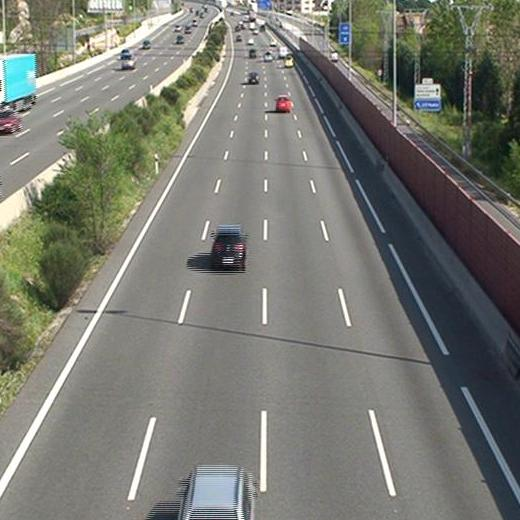car: (211, 227, 247, 268), (276, 96, 291, 111), (247, 71, 259, 84), (283, 58, 293, 67), (248, 49, 257, 58)
van: (263, 50, 272, 62)
